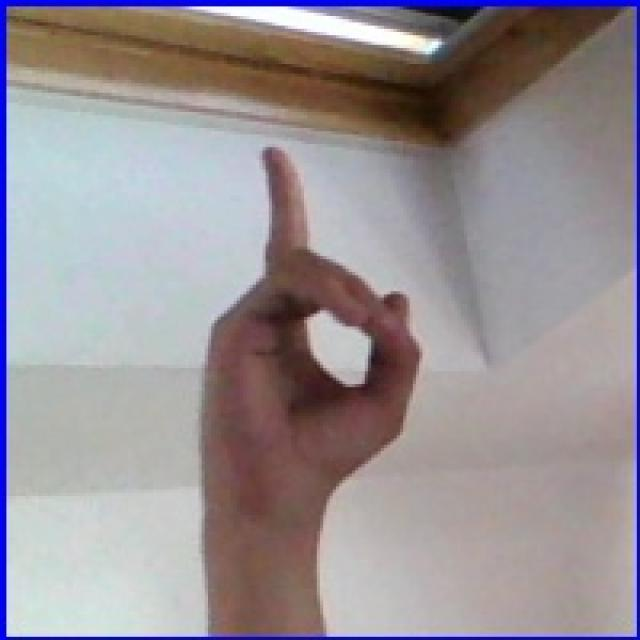Letra D: (146, 105, 448, 540)
